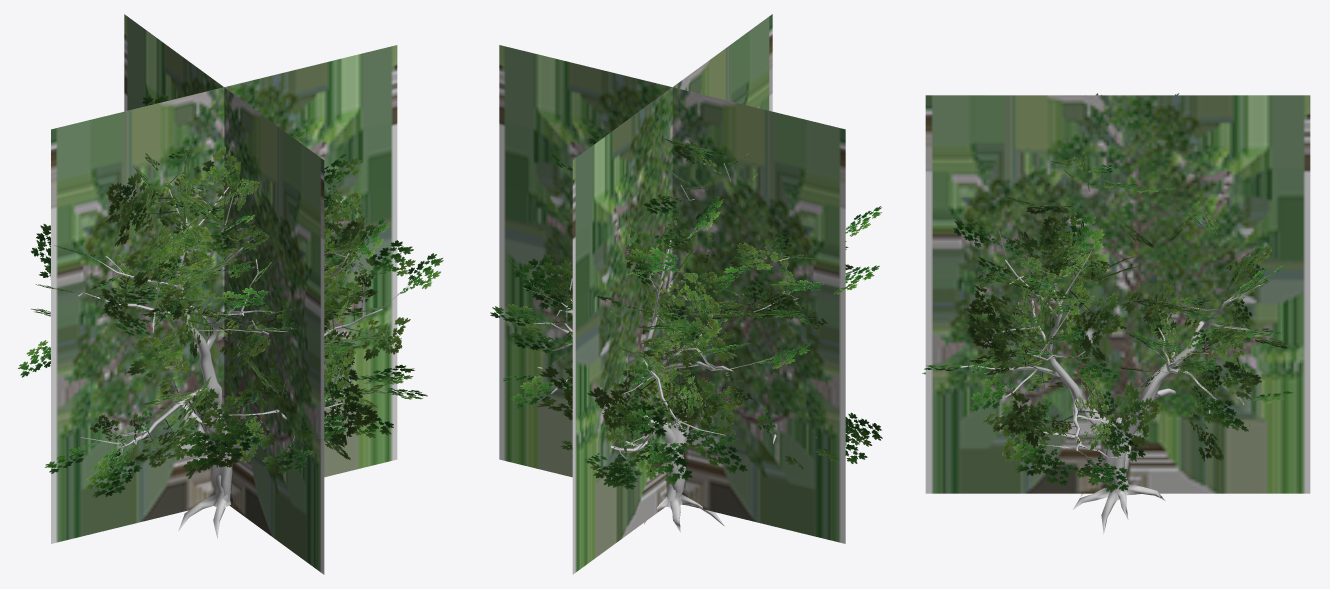
The model's file is Tree-Maple3A.fbx.
3 views of the same model, side by side, from view 1: azimuth 30°, elevation 25°; view 2: azimuth 150°, elevation 25°; view 3: azimuth 270°, elevation 25° (orthographic). The views are drawn at different scales.
Visible parts, largest first — view 1: Billboard-MapleA, Tree-Maple3A_LOD0; view 2: Billboard-MapleA, Tree-Maple3A_LOD0; view 3: Billboard-MapleA, Tree-Maple3A_LOD0.
Part boxes in pixels (box(x1,y1,x2,y2)): Billboard-MapleA: box(51, 14, 397, 574); Tree-Maple3A_LOD0: box(18, 94, 443, 538); Billboard-MapleA: box(499, 14, 845, 574); Tree-Maple3A_LOD0: box(490, 129, 882, 532); Billboard-MapleA: box(925, 95, 1310, 493); Tree-Maple3A_LOD0: box(922, 93, 1293, 534).
Size of what is drawn, in the model's own units: 3009 by 3297 by 2860.
